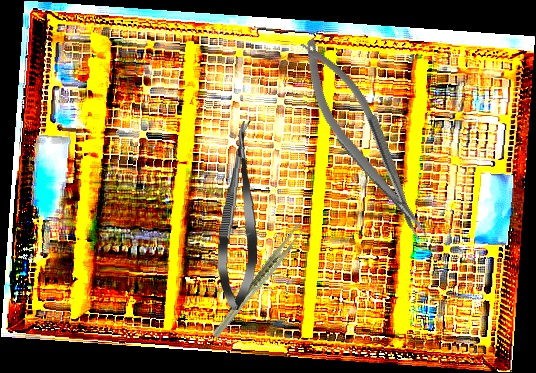Micro Scissor: (215, 120, 264, 311)
Needle Holder: (288, 29, 437, 252)
Tissue Forceps: (194, 221, 323, 340)
